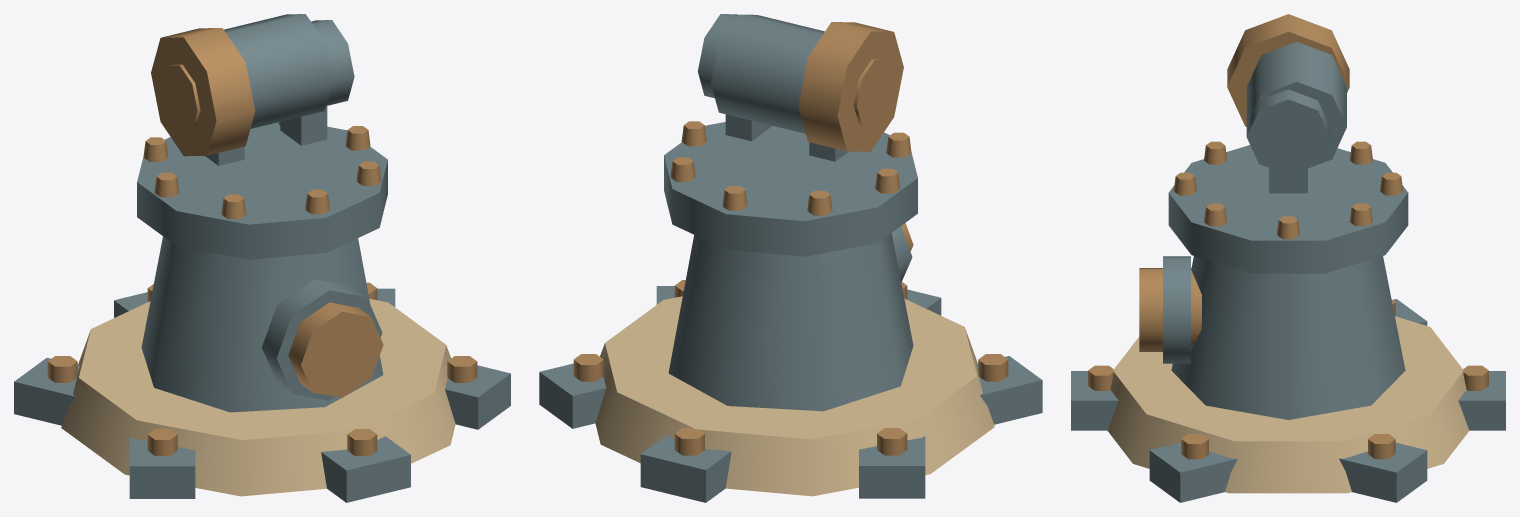
Rendered from Sprinkler.glb.
The picture shows the model from 3 angles, left to right: view 1: azimuth 30°, elevation 25°; view 2: azimuth 150°, elevation 25°; view 3: azimuth 270°, elevation 25°; orthographic projection. The views are drawn at different scales.
Parts seen in each view (by area): view 1: hand-pump-static-sprinkler-blue-gray-metal-mat, hand-pump-static-sprinkler-stone-base-mat, hand-pump-static-sprinkler-dark-fitting-mat; view 2: hand-pump-static-sprinkler-blue-gray-metal-mat, hand-pump-static-sprinkler-stone-base-mat, hand-pump-static-sprinkler-dark-fitting-mat; view 3: hand-pump-static-sprinkler-blue-gray-metal-mat, hand-pump-static-sprinkler-stone-base-mat, hand-pump-static-sprinkler-dark-fitting-mat.
Part boxes in pixels (box(x1,y1,x2,y2)): hand-pump-static-sprinkler-blue-gray-metal-mat: box(14, 14, 510, 502); hand-pump-static-sprinkler-stone-base-mat: box(61, 299, 455, 496); hand-pump-static-sprinkler-dark-fitting-mat: box(47, 28, 477, 455); hand-pump-static-sprinkler-blue-gray-metal-mat: box(539, 14, 1042, 502); hand-pump-static-sprinkler-stone-base-mat: box(595, 296, 994, 496); hand-pump-static-sprinkler-dark-fitting-mat: box(573, 22, 1008, 455); hand-pump-static-sprinkler-blue-gray-metal-mat: box(1071, 42, 1505, 502); hand-pump-static-sprinkler-stone-base-mat: box(1107, 316, 1469, 493); hand-pump-static-sprinkler-dark-fitting-mat: box(1088, 14, 1488, 459).
Bounding box in the file's own units: 1.48 × 1.45 × 1.56.
